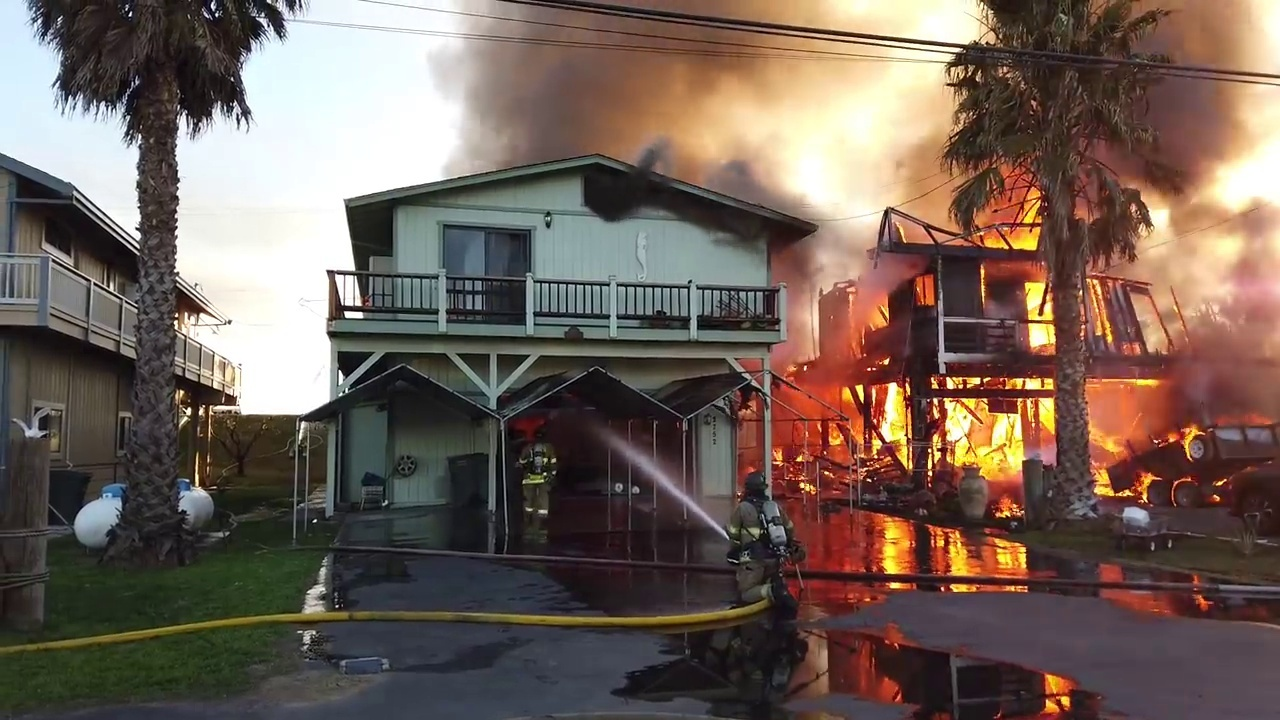fire: (784, 376, 1030, 519), (1087, 418, 1160, 505), (1160, 476, 1247, 511), (1027, 270, 1054, 344), (859, 290, 892, 350), (1029, 378, 1059, 431), (1175, 424, 1213, 464)
smoke: (426, 1, 938, 160), (1146, 1, 1280, 413), (642, 118, 846, 213), (592, 173, 818, 250), (875, 88, 965, 215), (819, 216, 933, 290), (1085, 274, 1144, 355), (1164, 513, 1258, 540), (1083, 379, 1146, 416), (1015, 436, 1062, 460)
